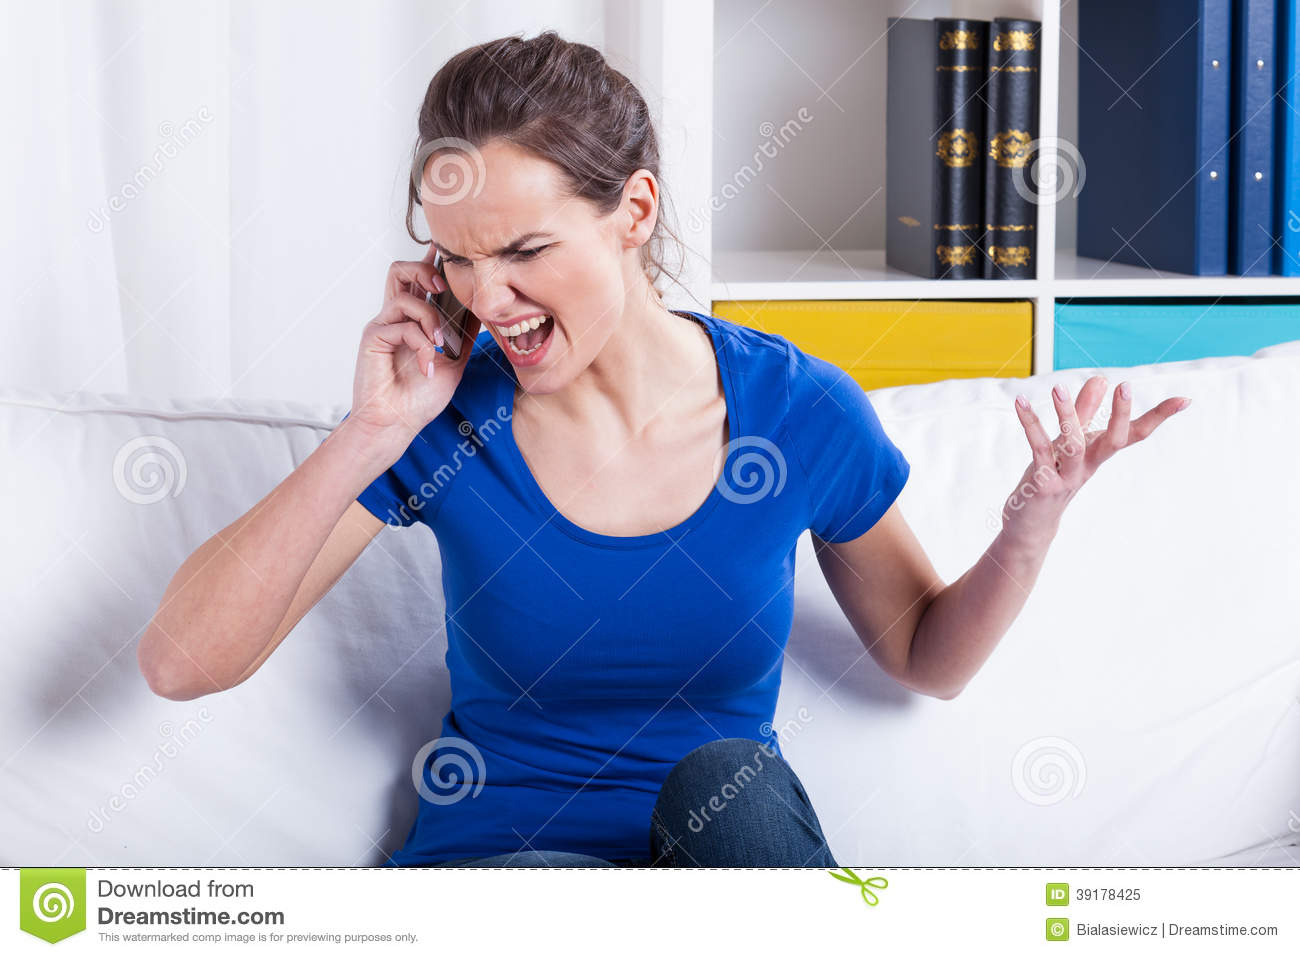phone: (421, 255, 466, 370)
talk: (346, 221, 588, 453)
